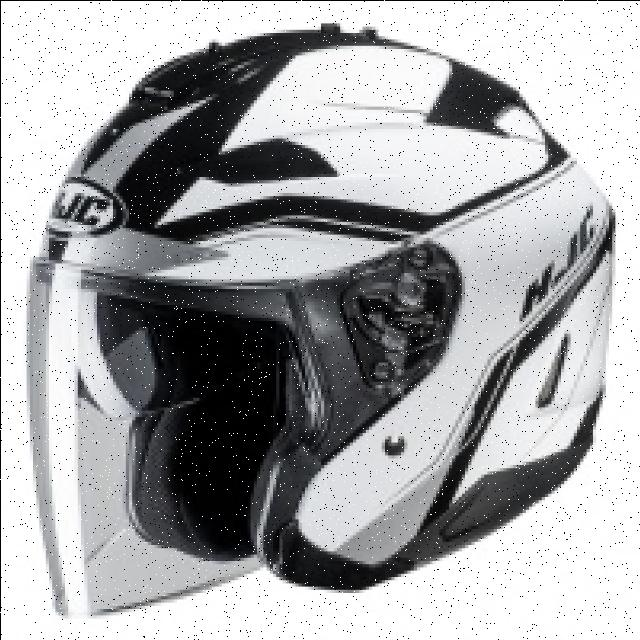Helmet: (29, 25, 614, 611)
